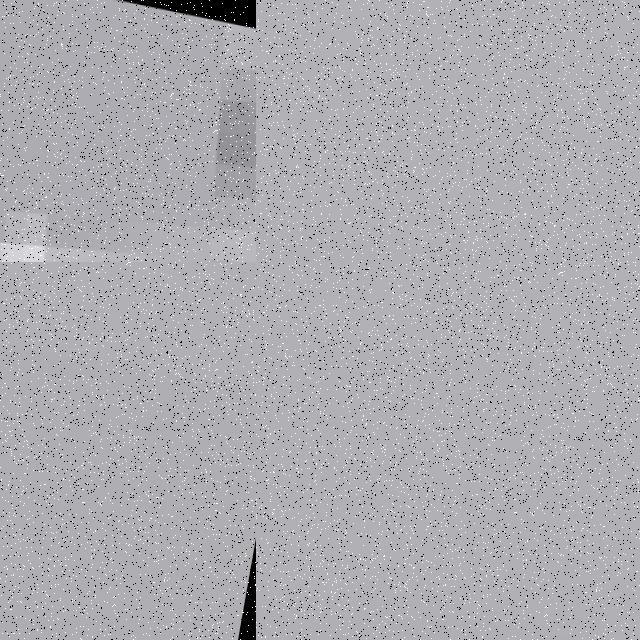drone: (0, 0, 256, 262)
